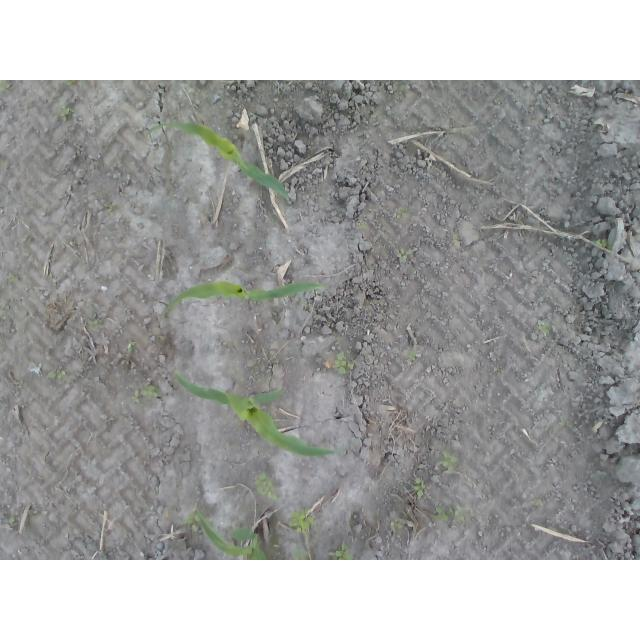Maize: (172, 369, 360, 459), (147, 119, 290, 203), (160, 281, 329, 320), (195, 509, 269, 560)
Weeds: (254, 470, 279, 502), (181, 508, 204, 538), (132, 384, 164, 405), (435, 504, 468, 524), (285, 509, 315, 531), (432, 452, 460, 473), (332, 354, 353, 375), (325, 542, 354, 556), (412, 477, 427, 499), (401, 345, 419, 363), (397, 248, 416, 263), (9, 511, 20, 534), (47, 369, 65, 383), (288, 548, 308, 560), (59, 106, 73, 123), (593, 236, 612, 248), (537, 318, 550, 334), (390, 520, 403, 535), (394, 207, 410, 219), (91, 312, 102, 327), (62, 80, 86, 86), (299, 299, 312, 310), (531, 497, 545, 507), (125, 341, 135, 355), (393, 82, 408, 91), (106, 204, 119, 213), (1, 81, 12, 91), (1, 308, 10, 320), (358, 220, 369, 229), (451, 235, 458, 244), (493, 366, 500, 374)
